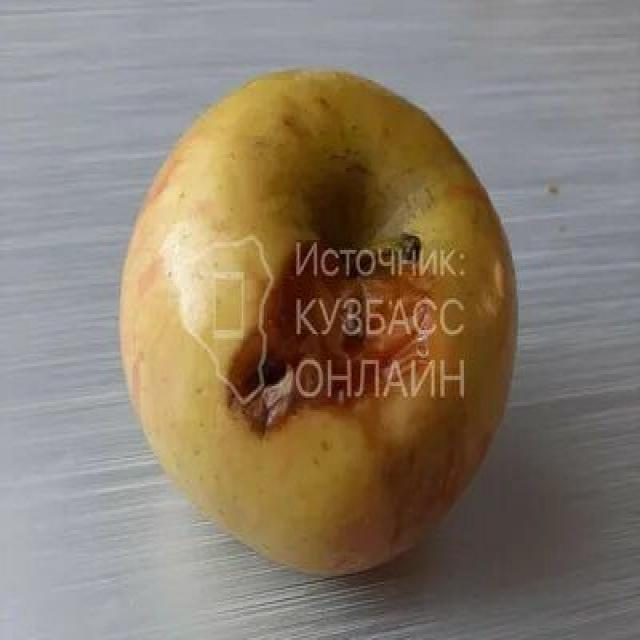Rotten: (145, 82, 502, 565)
